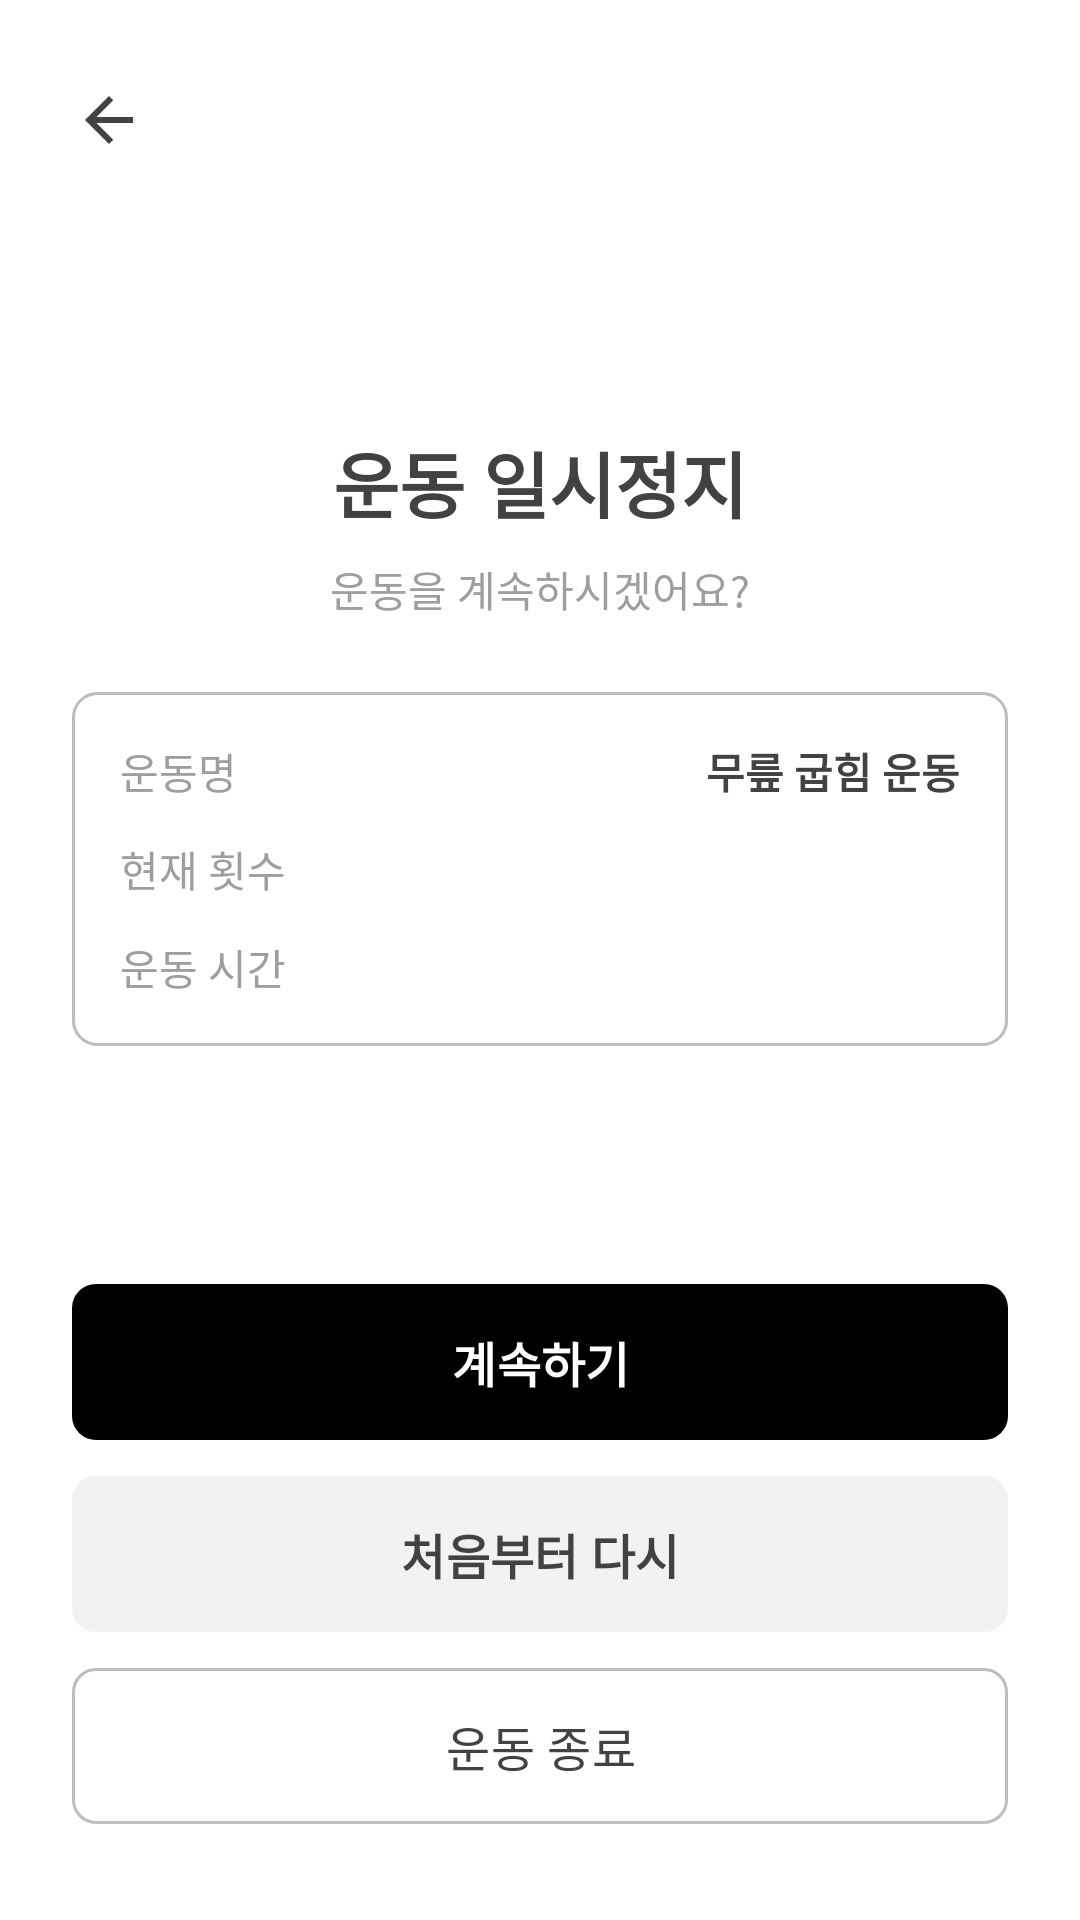

Where icons sit on this 1080x1920 app screen, as (x1, y1, x2, y2):
뒤로가기: (85, 96, 133, 144)
